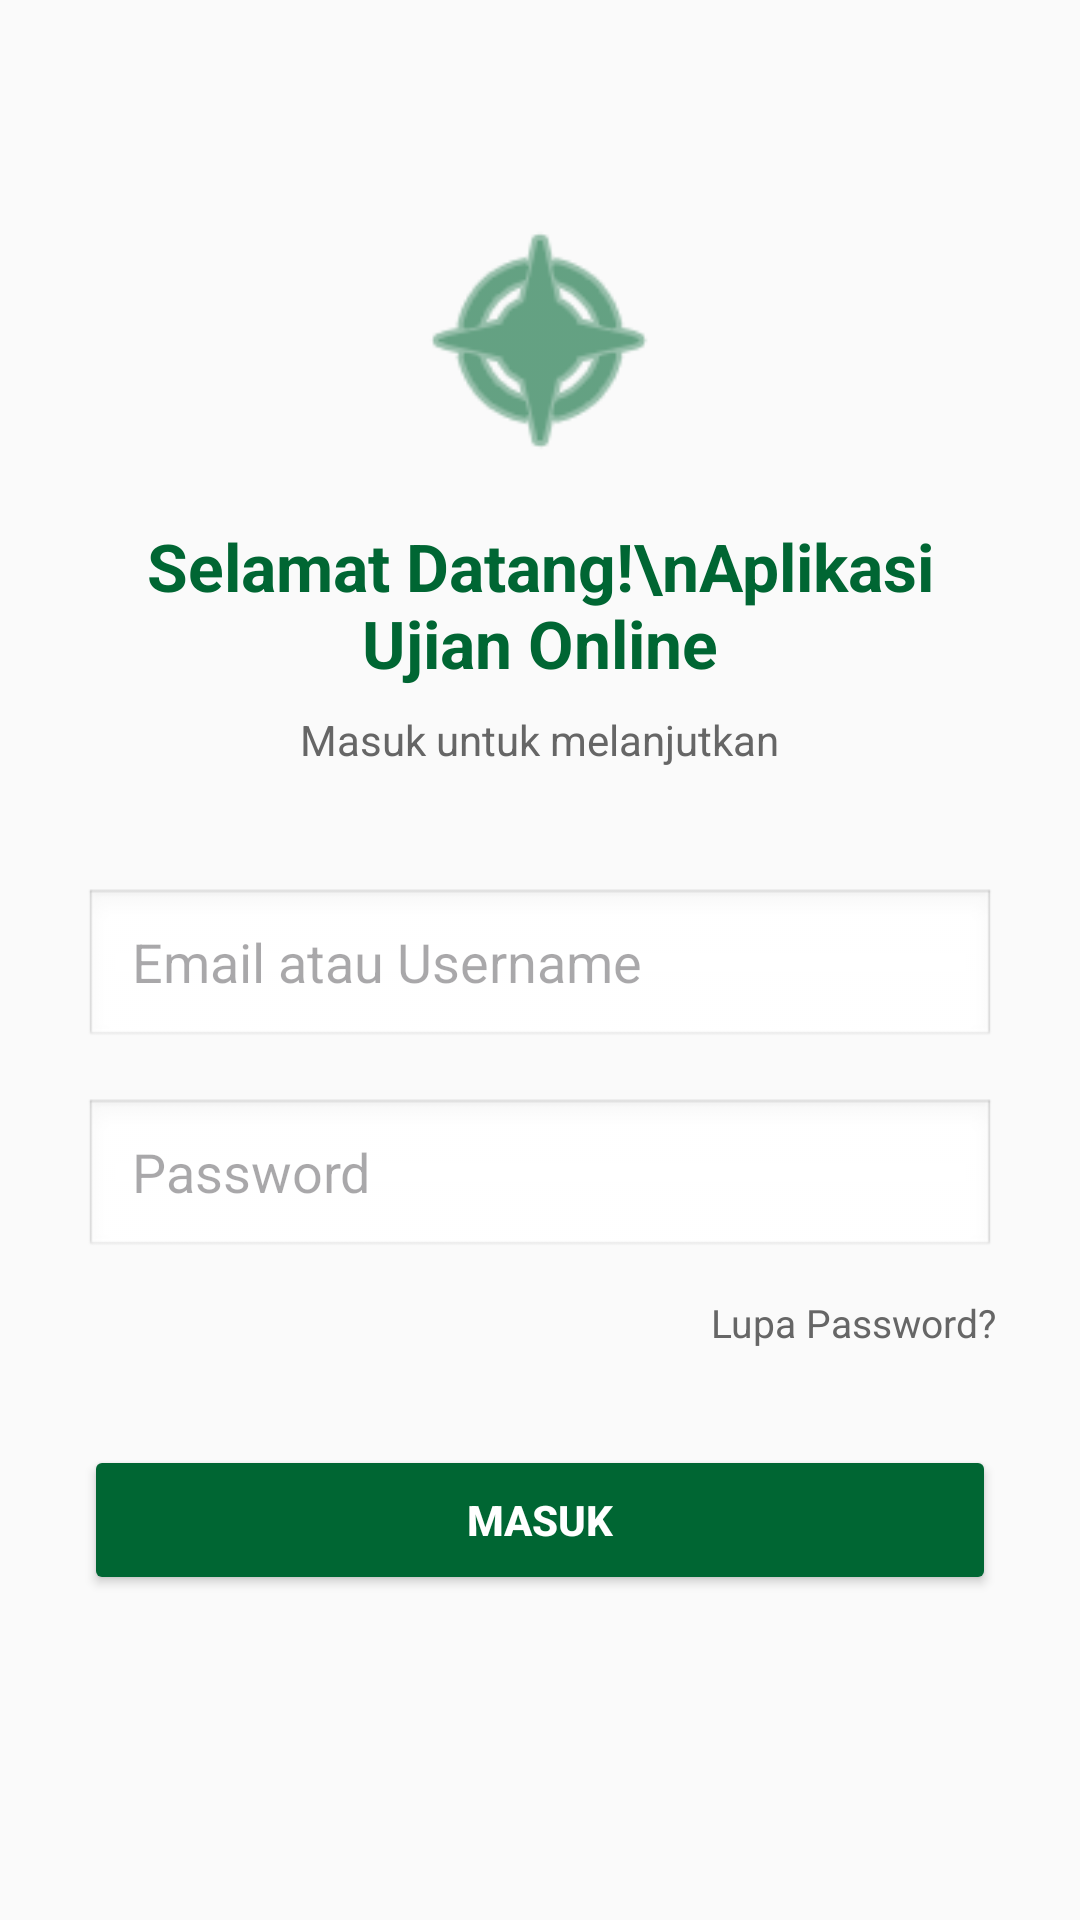

Icons on this 1080 × 1920 Android screen, each with its box as [x1,y1,x2,y2]:
compass: [432,234,646,447]
